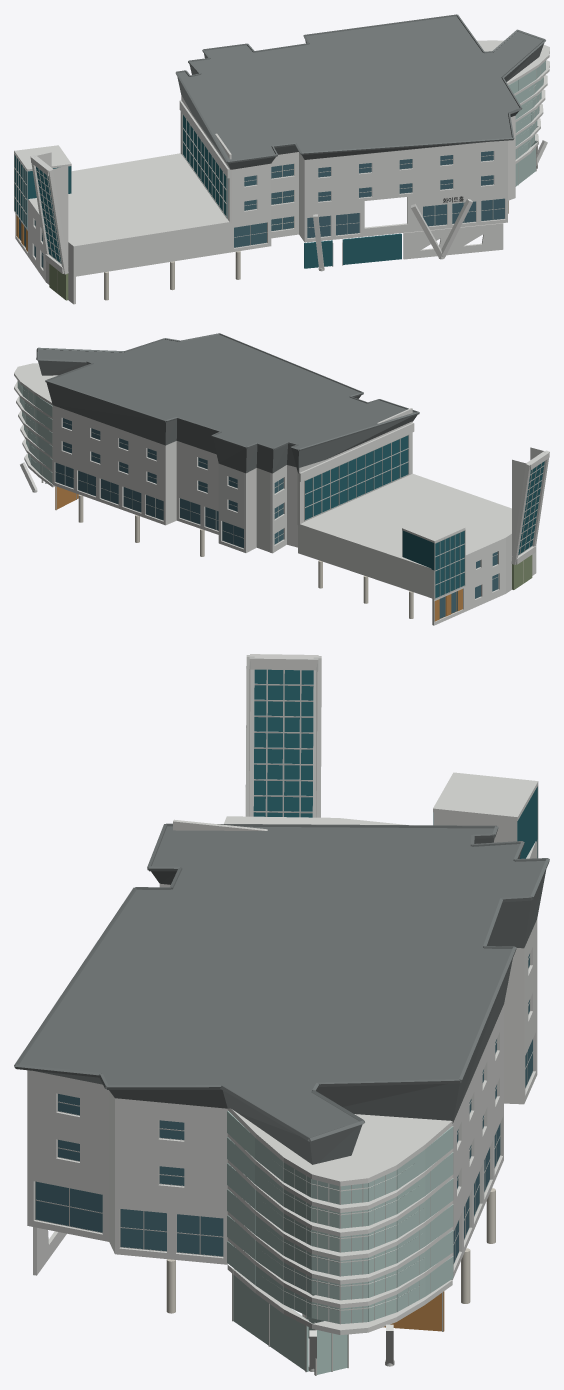
3 views of the same model, one above another, from view 1: azimuth 30°, elevation 25°; view 2: azimuth 150°, elevation 25°; view 3: azimuth 270°, elevation 25° (orthographic). The views are drawn at different scales.
Parts seen in each view (by area): view 1: white, contextRoof, glass, artglass, frame, white-frost-glass, stair-cheek, stair-glass, cream, stairBase; view 2: white, contextRoof, artglass, glass, frame, white-frost-glass, stair-glass, cream, stair-cheek, whiteBaseWood, stairBase; view 3: contextRoof, white, white-frost-glass, glass, stair-glass, frame, cream, whiteBaseWood, artglass.
Part boxes in pixels (x1=…): white: x1=14, y1=40, x2=549, y2=304; contextRoof: x1=175, y1=14, x2=545, y2=169; glass: x1=19, y1=151, x2=504, y2=267; artglass: x1=14, y1=115, x2=401, y2=268; frame: x1=14, y1=66, x2=543, y2=268; white-frost-glass: x1=508, y1=61, x2=545, y2=186; stair-cheek: x1=37, y1=152, x2=68, y2=265; stair-glass: x1=36, y1=167, x2=61, y2=263; cream: x1=57, y1=200, x2=508, y2=300; stairBase: x1=49, y1=264, x2=68, y2=300; white: x1=14, y1=363, x2=549, y2=625; contextRoof: x1=36, y1=333, x2=419, y2=473; artglass: x1=305, y1=435, x2=464, y2=598; glass: x1=55, y1=418, x2=498, y2=618; frame: x1=18, y1=382, x2=544, y2=599; white-frost-glass: x1=17, y1=381, x2=52, y2=483; stair-glass: x1=518, y1=461, x2=544, y2=554; cream: x1=78, y1=494, x2=523, y2=618; stair-cheek: x1=512, y1=447, x2=543, y2=556; whiteBaseWood: x1=55, y1=486, x2=462, y2=621; stairBase: x1=512, y1=555, x2=532, y2=589; contextRoof: x1=14, y1=823, x2=549, y2=1164; white: x1=27, y1=654, x2=538, y2=1370; white-frost-glass: x1=227, y1=1111, x2=453, y2=1374; glass: x1=35, y1=954, x2=532, y2=1263; stair-glass: x1=253, y1=669, x2=313, y2=817; frame: x1=35, y1=669, x2=538, y2=1375; cream: x1=166, y1=1188, x2=495, y2=1313; whiteBaseWood: x1=383, y1=1291, x2=444, y2=1331; artglass: x1=433, y1=786, x2=537, y2=858.
Bounding box in the file's own units: 67.99 × 17.36 × 31.74.
Materials: 12 (1 with a texture image).
